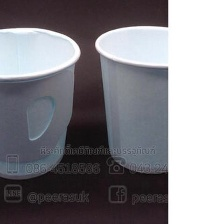paper_cup: (0, 20, 84, 185), (90, 21, 168, 179)
